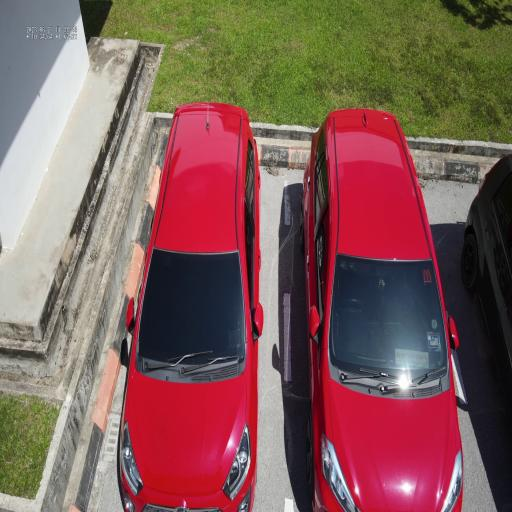Occupied: (77, 155, 297, 512), (281, 140, 489, 512)
